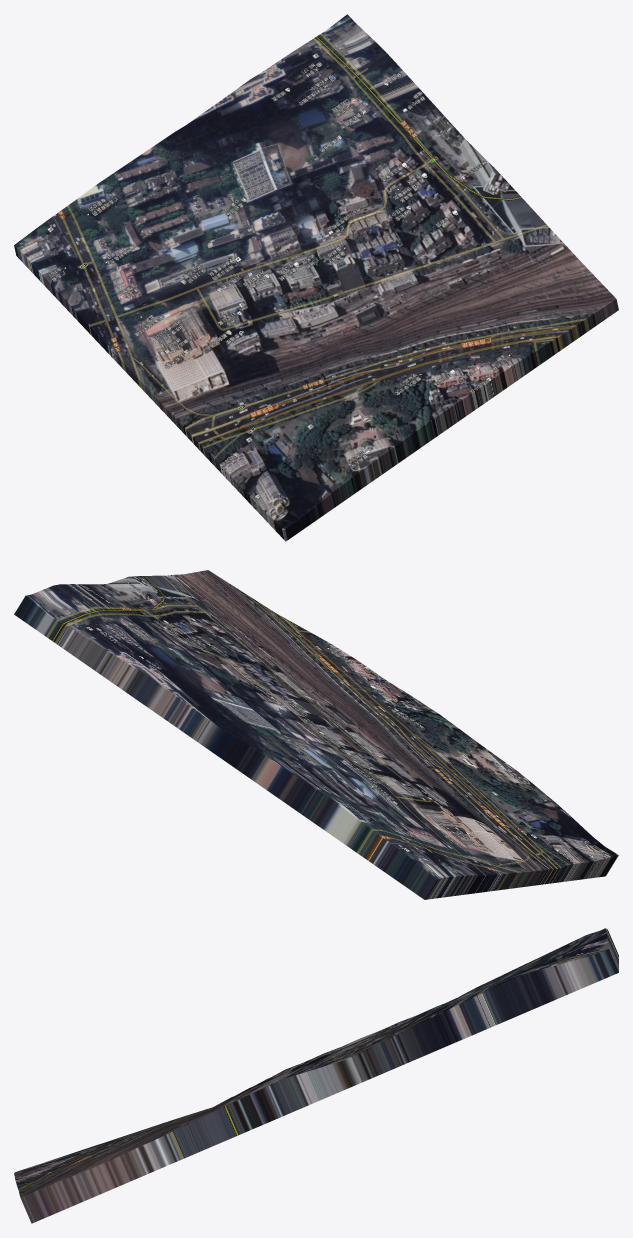
The picture shows the model from 3 angles, top to bottom: view 1: azimuth 30°, elevation 25°; view 2: azimuth 150°, elevation 25°; view 3: azimuth 270°, elevation 25°; orthographic projection. The views are drawn at different scales.
Visible parts, largest first — view 1: 0_5_23; view 2: 0_5_23; view 3: 0_5_23.
Boxes of the visible parts, <box> form: 0_5_23: <box>14,14,618,541</box>; 0_5_23: <box>14,570,618,899</box>; 0_5_23: <box>14,928,618,1223</box>.
Bounding box in the file's own units: 601 × 449 × 558.
1 material, 1 textured.
